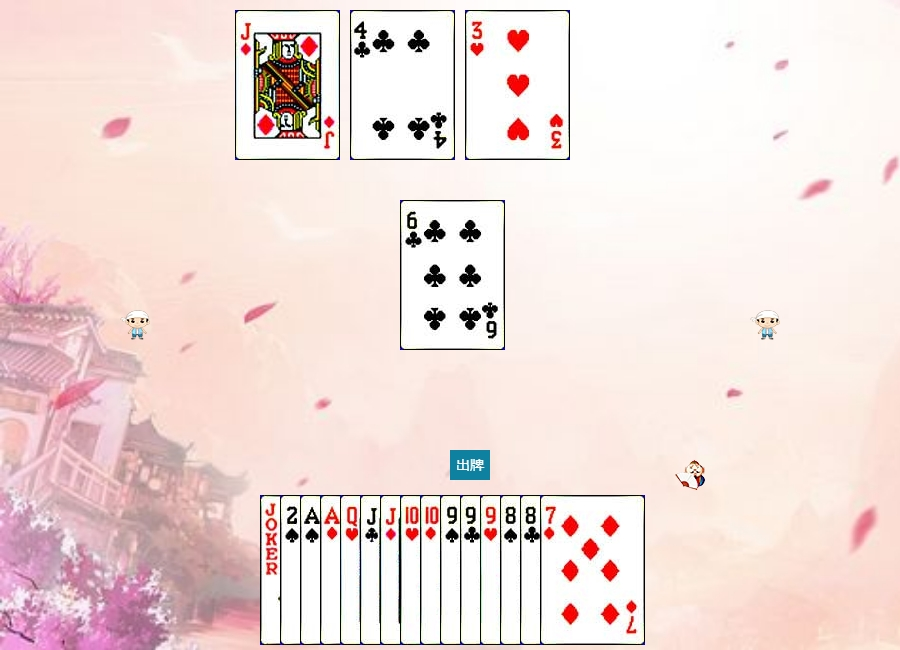10~1: (420, 495, 525, 645)
10~3: (400, 495, 505, 645)
11~1: (235, 10, 340, 160), (380, 495, 485, 645)
11~2: (360, 495, 465, 645)
12~3: (340, 495, 445, 645)
14~1: (320, 495, 425, 645)
14~4: (300, 495, 405, 645)
15~4: (280, 495, 385, 645)
18~4: (260, 495, 365, 645)
3~3: (465, 10, 570, 160)
4~2: (350, 10, 455, 160)
6~2: (400, 200, 505, 350)
7~1: (540, 495, 645, 645)
8~2: (520, 495, 625, 645)
8~4: (500, 495, 605, 645)
9~2: (460, 495, 565, 645)
9~3: (480, 495, 585, 645)
9~4: (440, 495, 545, 645)
